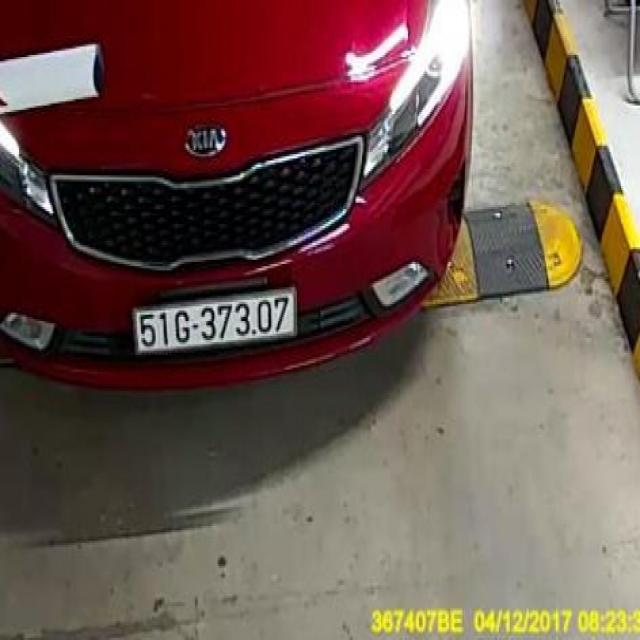License-Plates: (131, 282, 299, 360)
